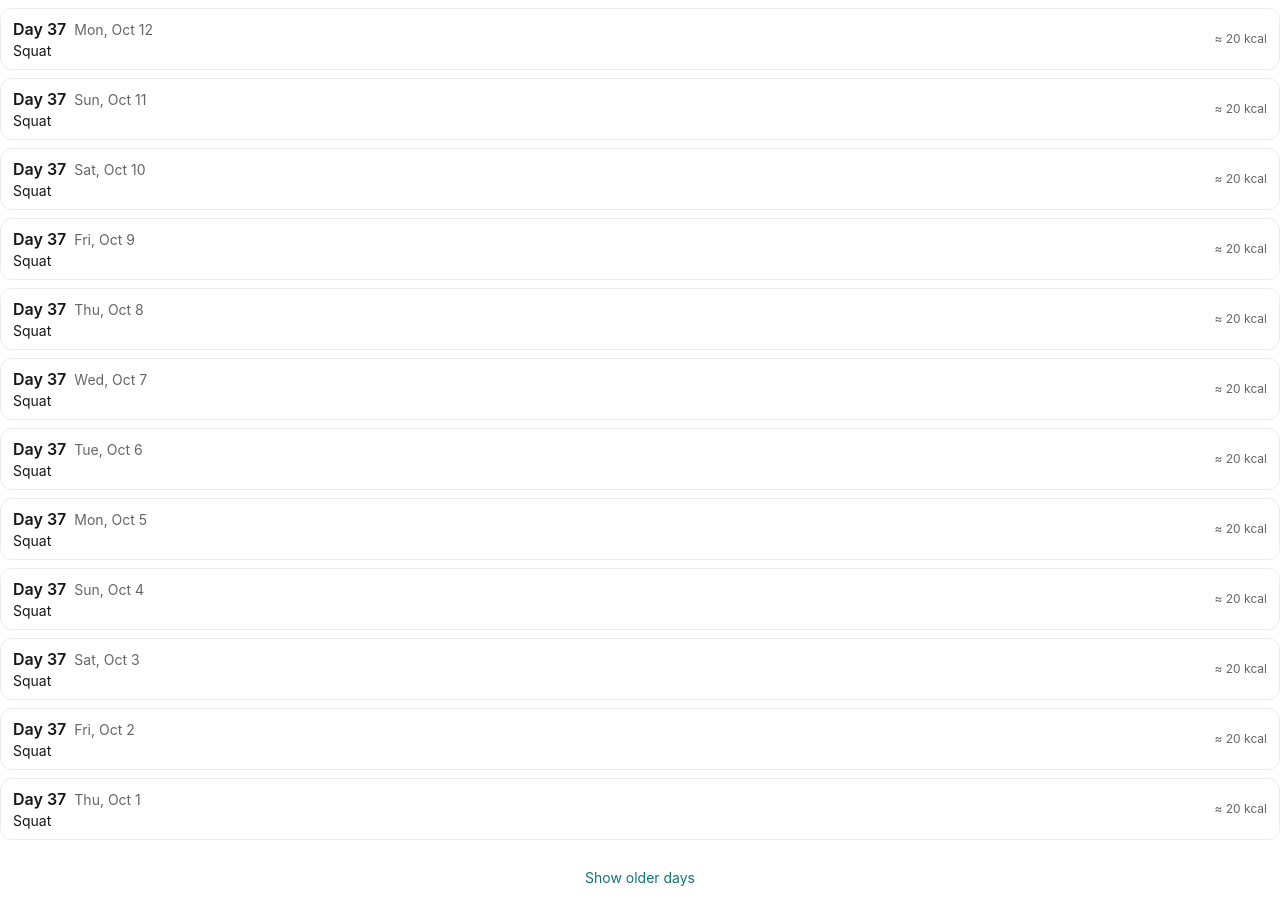
it: History › loads older days from the oldest one shown, without repeating it
(page scrolled)
Click the button "Show older days": (640, 878) x1=585 y1=856 x2=695 y2=899
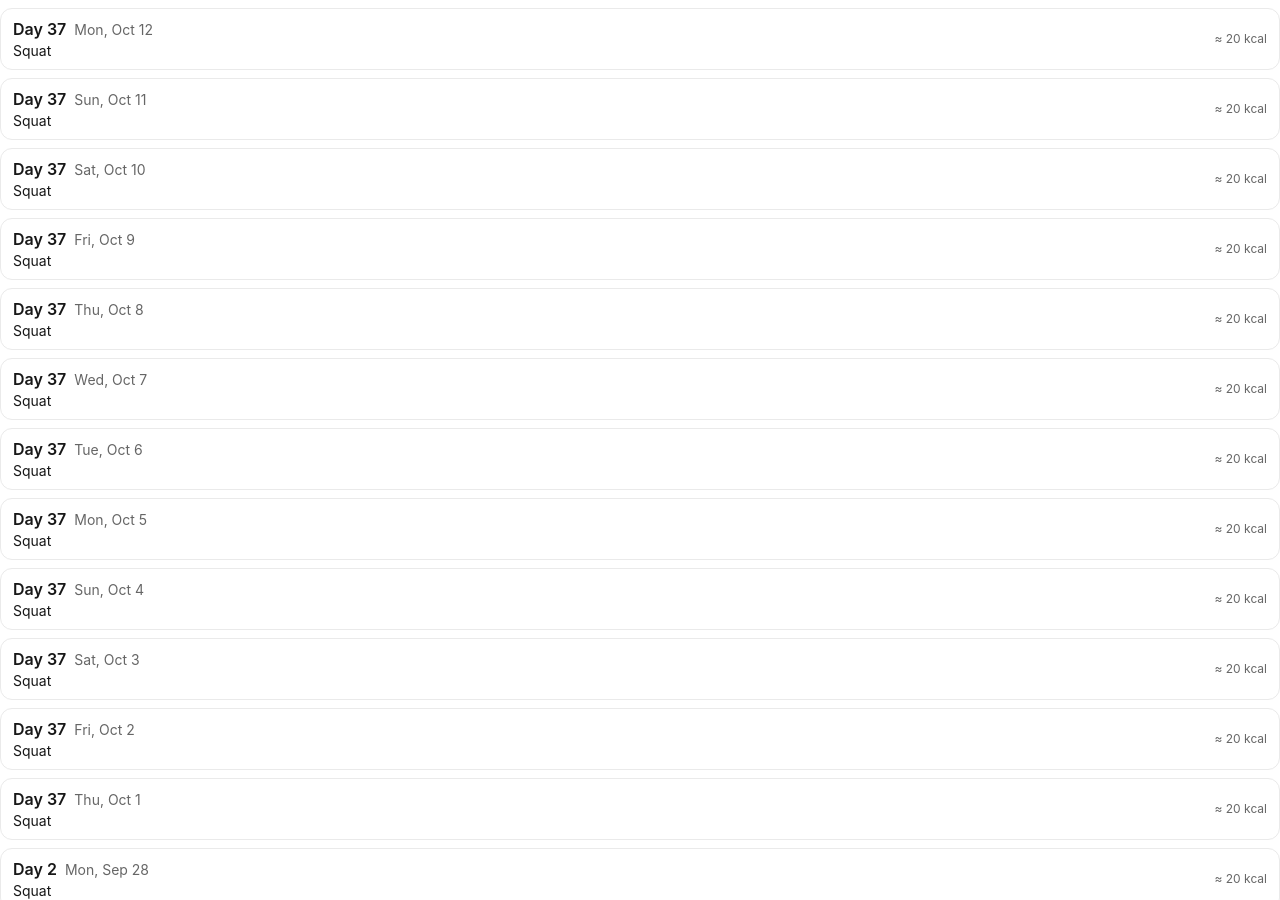
Now the button "Show older days" is gone
